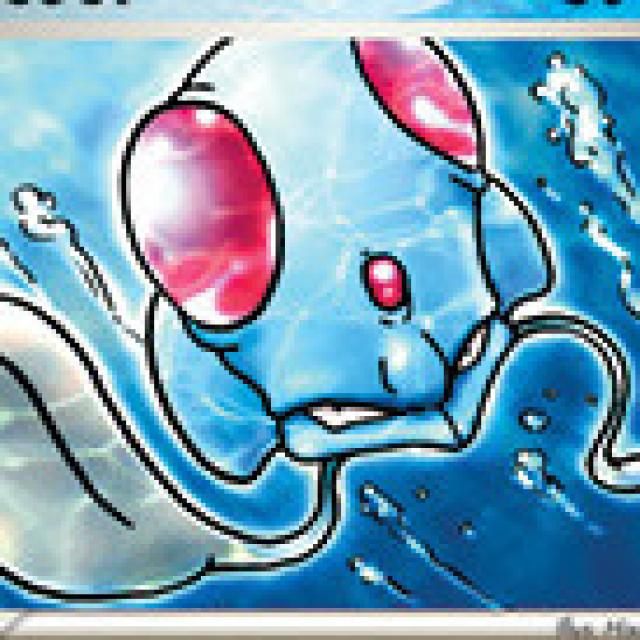Tentacool: (132, 33, 562, 500)
